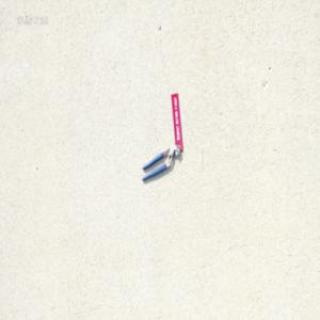LuggageTagtrack_idkeyframe: (170, 91, 183, 150)
Pliertrack_idkeyframe: (140, 142, 180, 180)
